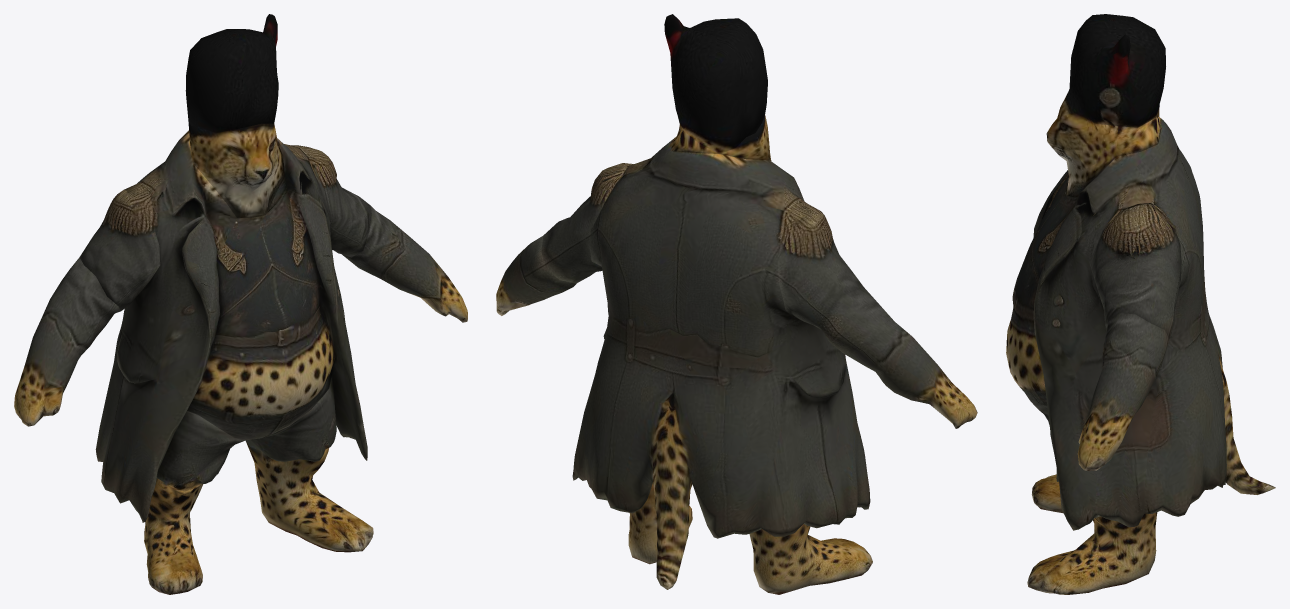
File: infantry_hp_gibs.glb
The picture shows the model from 3 angles, left to right: view 1: azimuth 30°, elevation 25°; view 2: azimuth 150°, elevation 25°; view 3: azimuth 270°, elevation 25°; orthographic projection. The views are drawn at different scales.
Visible parts, largest first — view 1: Body.001, Hat.001, Forarm.R.001, Leg.L.001, Head.001, Arm.R.001, Forarm.L.001, Leg.R.001, Upleg.R.001, Arm.L.001, Upleg.L.001; view 2: Body.001, Hat.001, Forarm.R.001, Arm.R.001, Leg.R.001, Arm.L.001, Forarm.L.001, Leg.L.001, Head.001; view 3: Body.001, Hat.001, Arm.L.001, Forarm.L.001, Leg.L.001, Head.001, Leg.R.001.
Boxes of the visible parts, x1,y1,x2,y2 form: Body.001: [95, 130, 367, 522]; Hat.001: [185, 14, 278, 133]; Forarm.R.001: [14, 257, 120, 426]; Leg.L.001: [246, 442, 373, 552]; Head.001: [188, 122, 285, 217]; Arm.R.001: [79, 189, 160, 310]; Forarm.L.001: [342, 205, 467, 322]; Leg.R.001: [144, 478, 203, 594]; Upleg.R.001: [157, 411, 244, 491]; Arm.L.001: [291, 145, 371, 257]; Upleg.L.001: [245, 374, 336, 461]; Body.001: [572, 136, 870, 589]; Hat.001: [664, 14, 767, 153]; Forarm.R.001: [819, 287, 977, 428]; Arm.R.001: [777, 203, 863, 329]; Leg.R.001: [749, 524, 872, 594]; Arm.L.001: [541, 163, 633, 283]; Forarm.L.001: [496, 236, 576, 315]; Leg.L.001: [628, 481, 692, 564]; Head.001: [669, 115, 771, 160]; Body.001: [1006, 117, 1275, 530]; Hat.001: [1066, 14, 1165, 127]; Arm.L.001: [1089, 203, 1181, 338]; Forarm.L.001: [1077, 313, 1169, 471]; Leg.L.001: [1027, 512, 1157, 594]; Head.001: [1046, 93, 1161, 194]; Leg.R.001: [1032, 474, 1063, 513].
Bounding box in the file's own units: 0.8577 × 0.9555 × 0.4379.
Materials: 2 (1 with a texture image).
